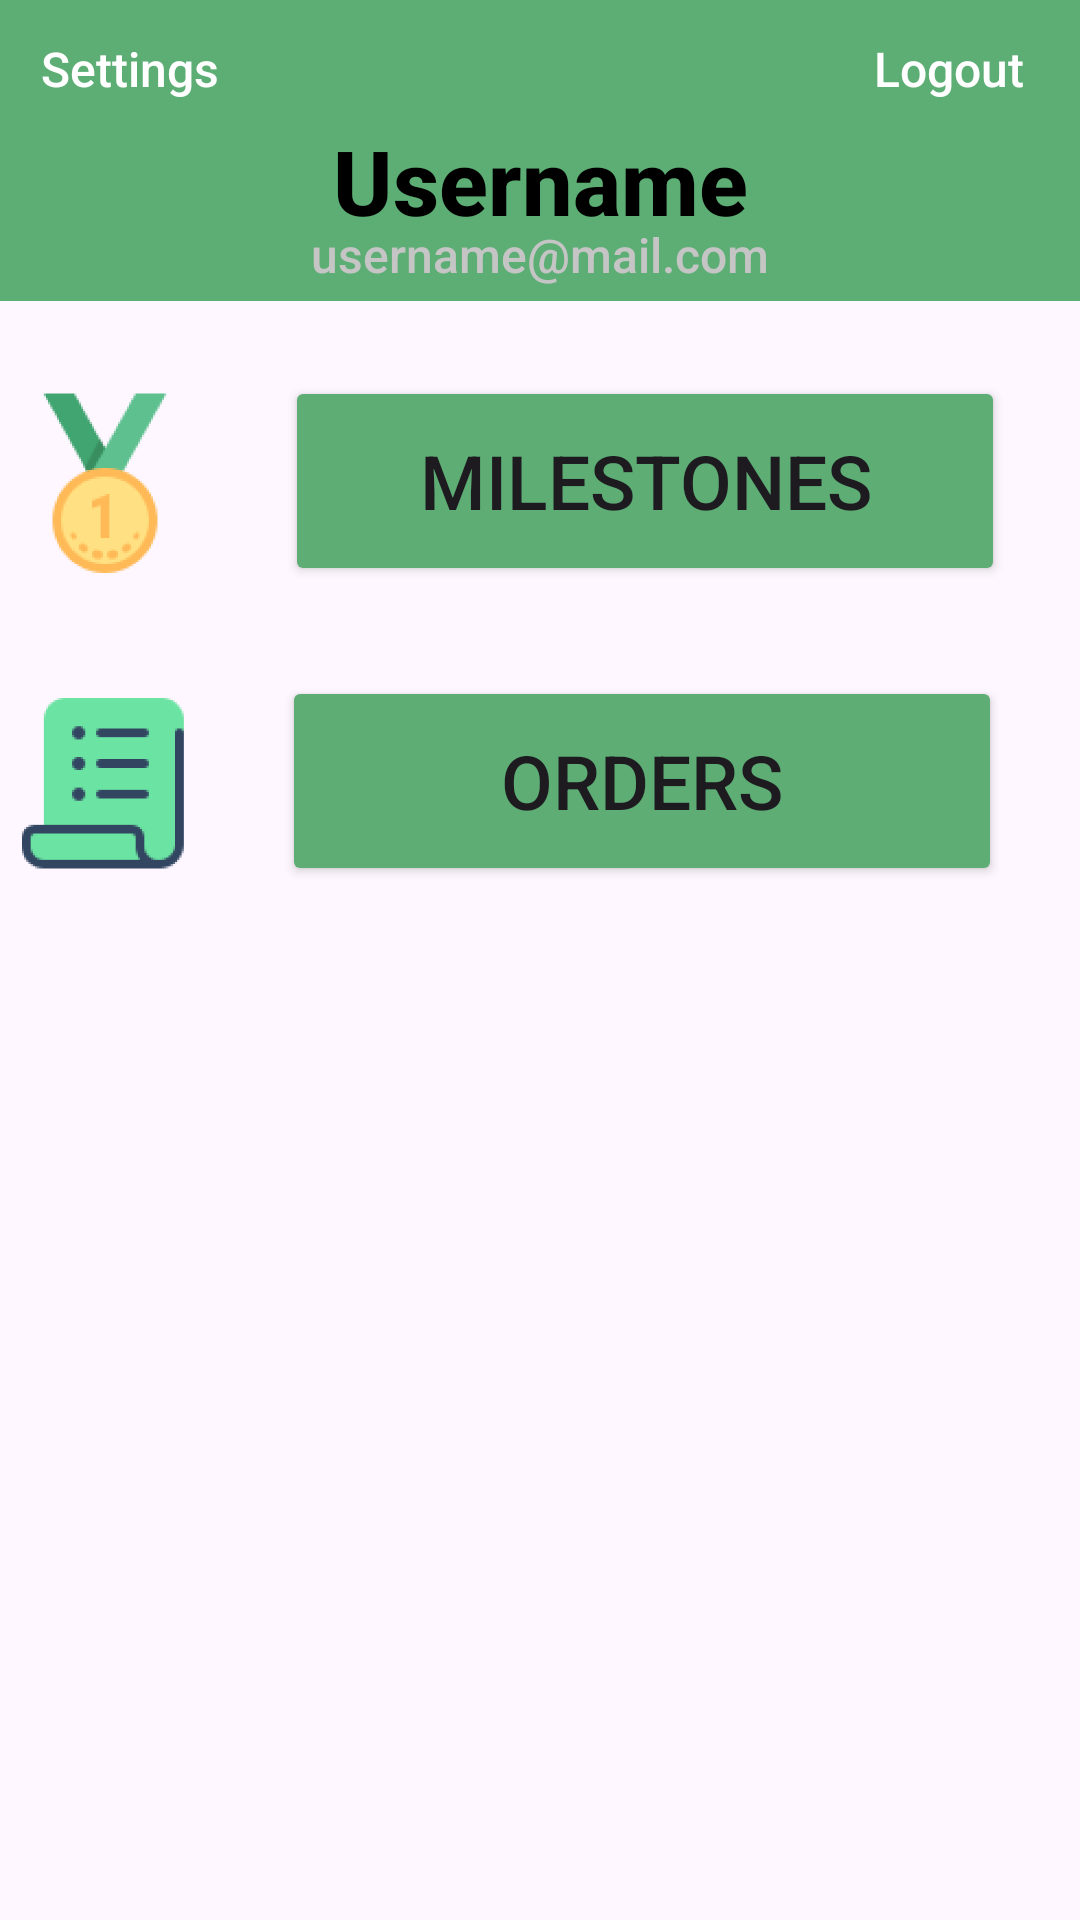

Icons on this 1080px×1920px Android screen, each with its box as (x1, y1, x2, y2):
achievem: (44, 393, 166, 573)
